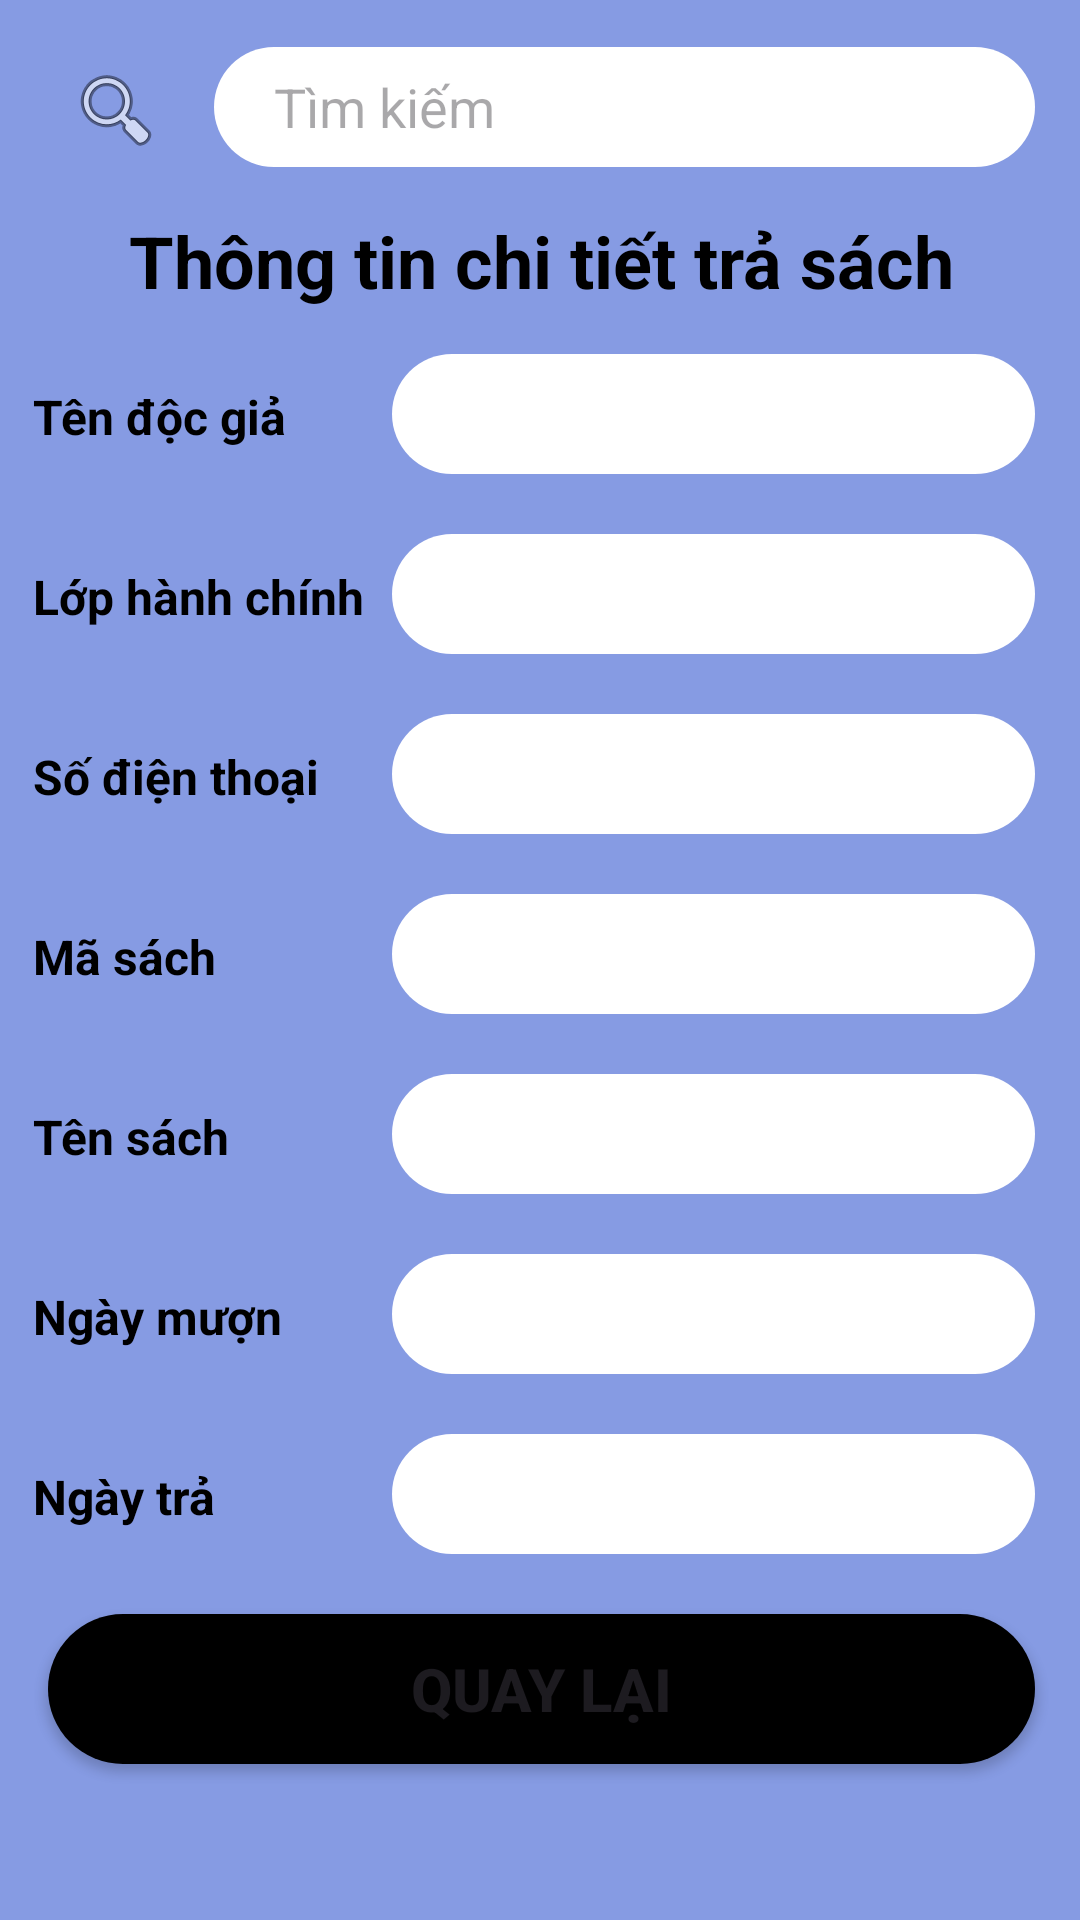

Icons on this 1080 × 1920 Android screen, each with the point to tap as (x,y):
search: (116,110)
